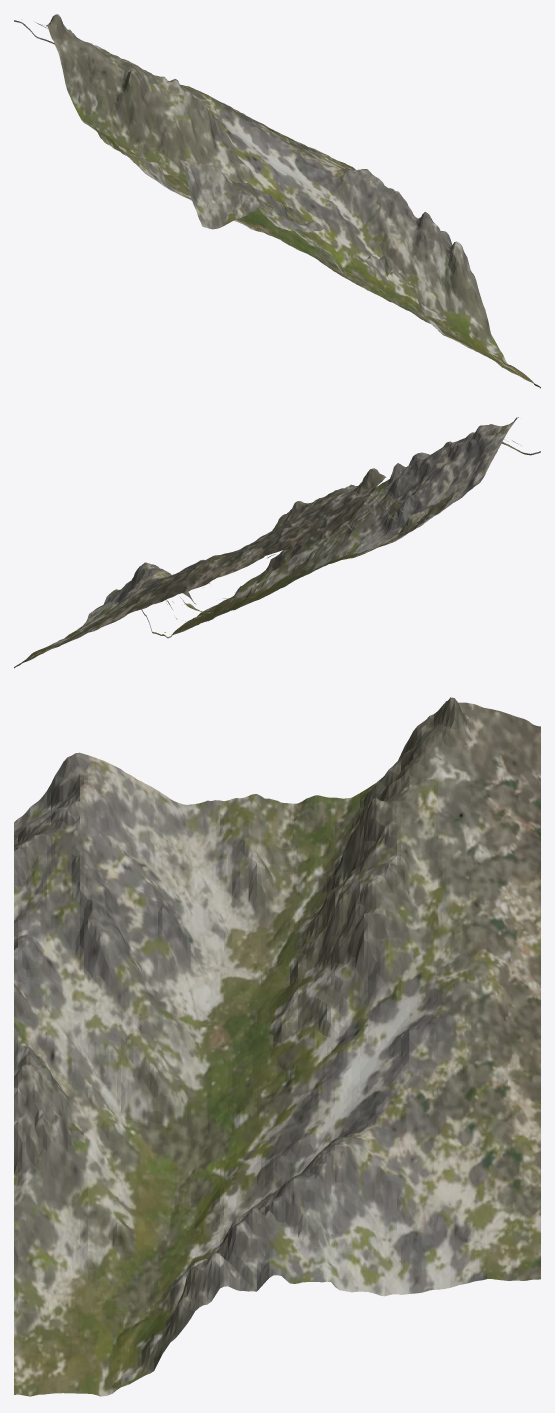
3 renders of one model, top to bottom at view 1: azimuth 30°, elevation 25°; view 2: azimuth 150°, elevation 25°; view 3: azimuth 270°, elevation 25°, orthographic. The views are drawn at different scales.
Bounding box in the file's own units: 250 × 240 × 241.
1 material, 1 textured.
